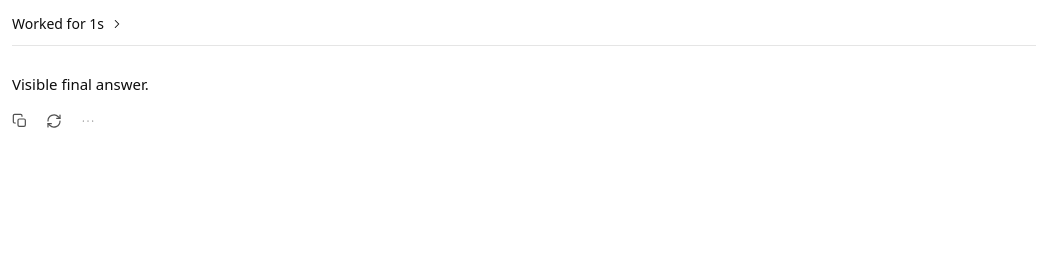
Test case: message rendering › internal Pi summaries stay behind a lazy disclosure
Click the button with class "run-header-toggle".
click(58, 24)  # box [12, 12, 1036, 36]
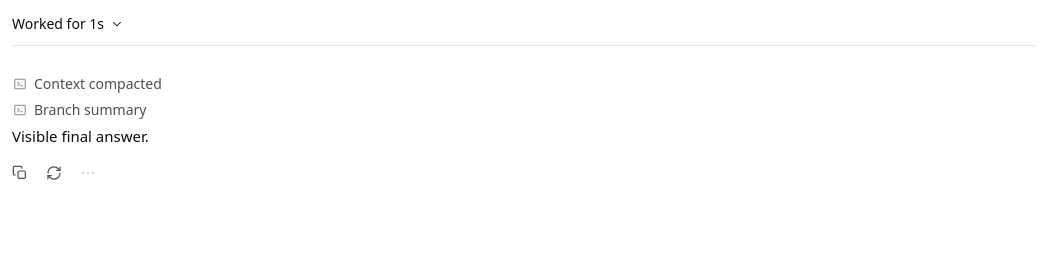
Expected: the element with class "system-summary-item" does not show "Internal compaction detail that should not dominate routine history."
Expected: the element with class "system-summary-item" does not show "Internal branch detail that should also stay compact."
Click the button "Context compacted".
click(98, 84)  # box [12, 72, 1036, 96]
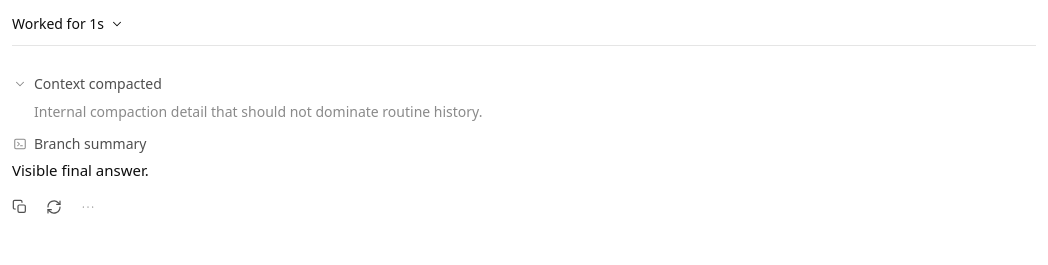
Click the button "Branch summary".
click(90, 144)  # box [12, 132, 1036, 156]
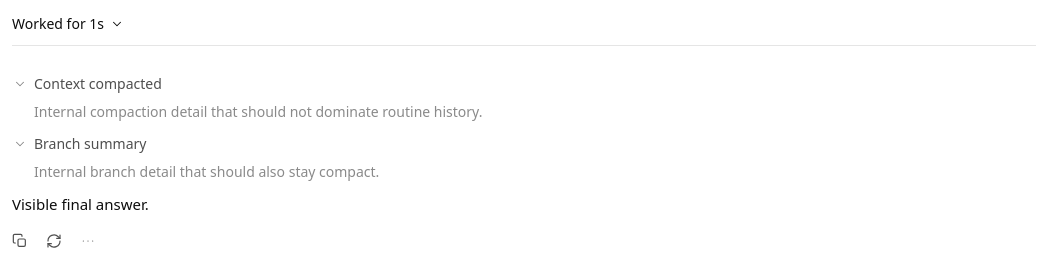
Result: the button "Context compacted" is expanded at [12, 72, 1036, 96]
Result: the element with class "timeline-row-thought" reads "Internal compaction detail that should not dominate routine history." at [34, 102, 482, 121]
Result: the button "Branch summary" is expanded at [12, 132, 1036, 156]
